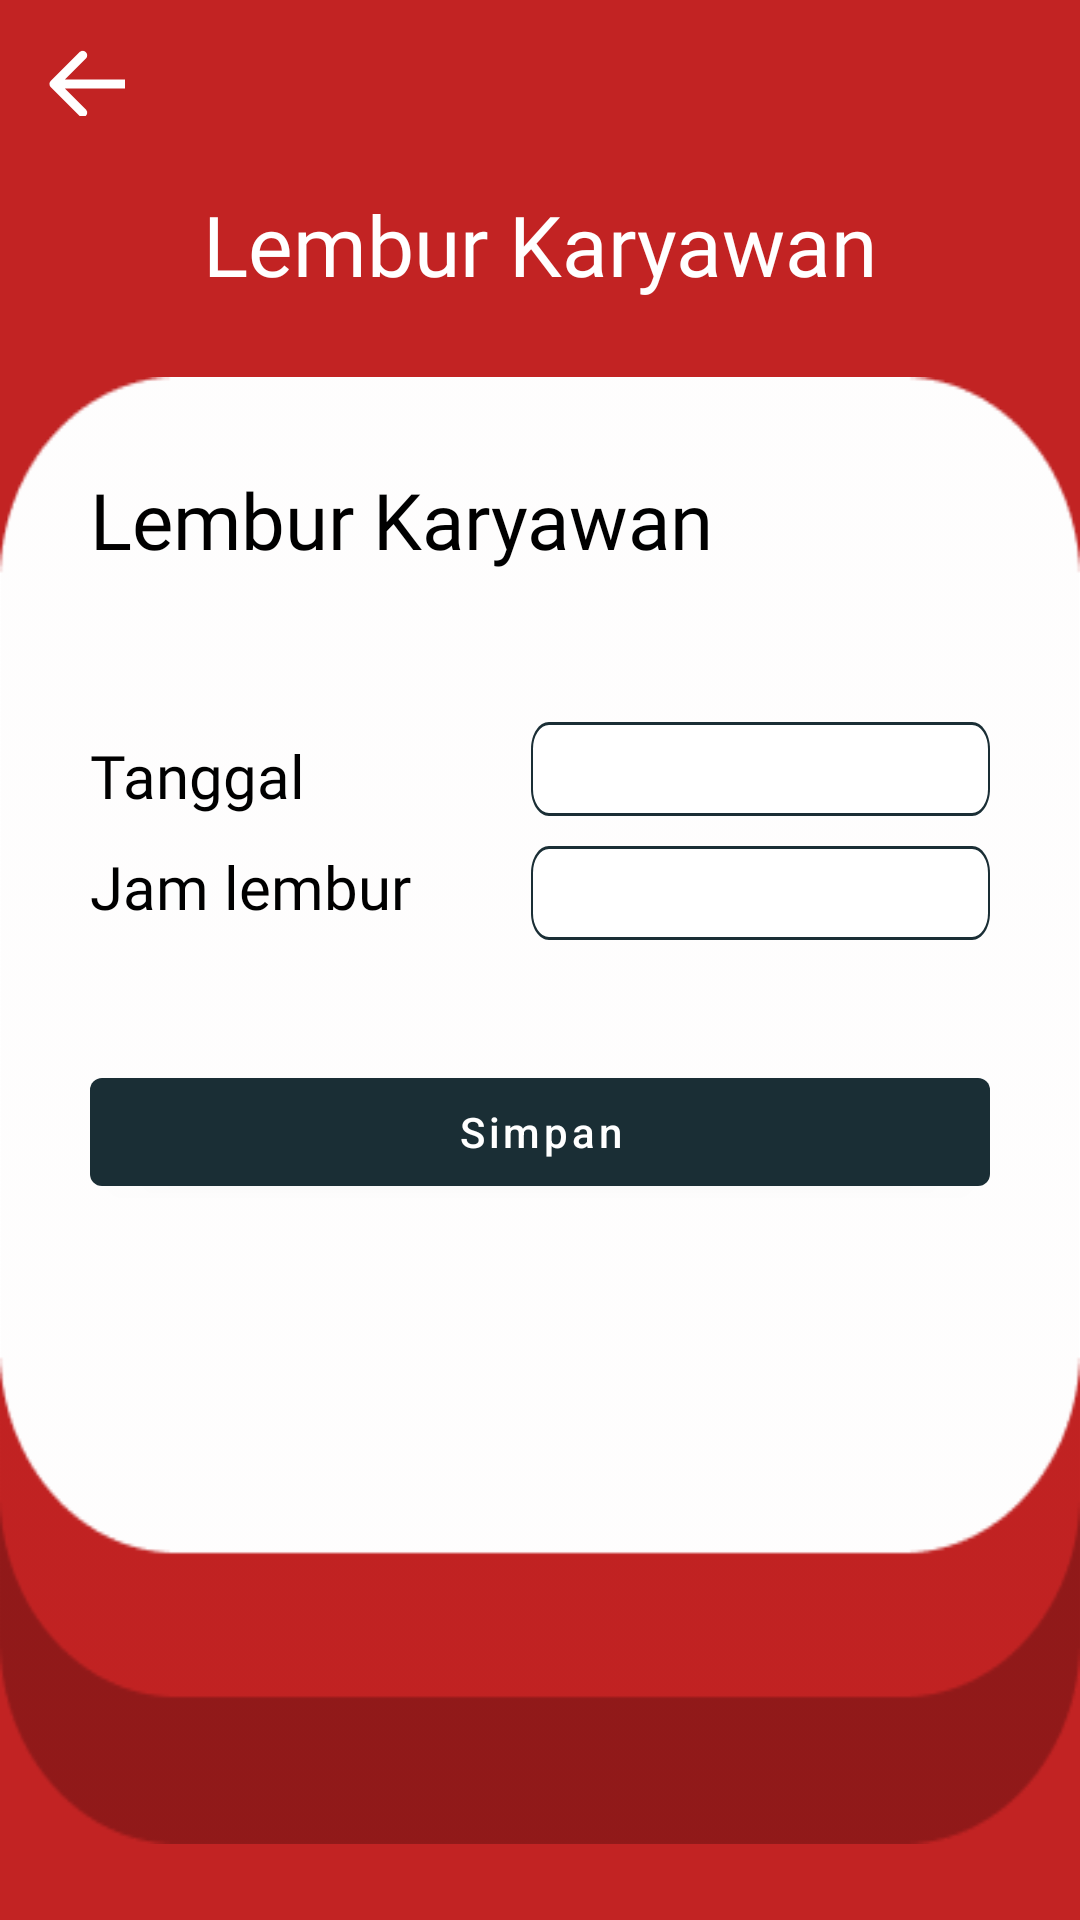

Where icons sit on this 1080 x 1920 app screen, as Rect(x1, y1, x2, y2):
back: Rect(49, 50, 125, 116)
